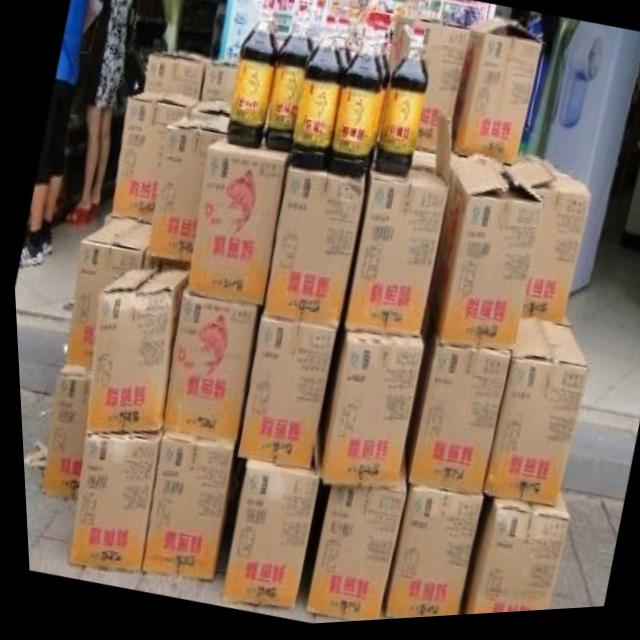box: (425, 164, 544, 356), (476, 324, 584, 512), (80, 262, 184, 435), (340, 168, 445, 339), (297, 449, 399, 625), (181, 139, 286, 308), (213, 436, 313, 610), (258, 171, 364, 332), (317, 335, 420, 495), (401, 348, 505, 499), (232, 318, 331, 476), (159, 298, 254, 446), (134, 434, 229, 582), (60, 216, 148, 369), (376, 492, 477, 623), (507, 167, 588, 329), (457, 498, 563, 620), (62, 435, 155, 574), (448, 36, 541, 169), (144, 117, 226, 265), (106, 92, 194, 226), (396, 21, 469, 155), (33, 363, 87, 494), (141, 57, 205, 101), (199, 60, 239, 108)
